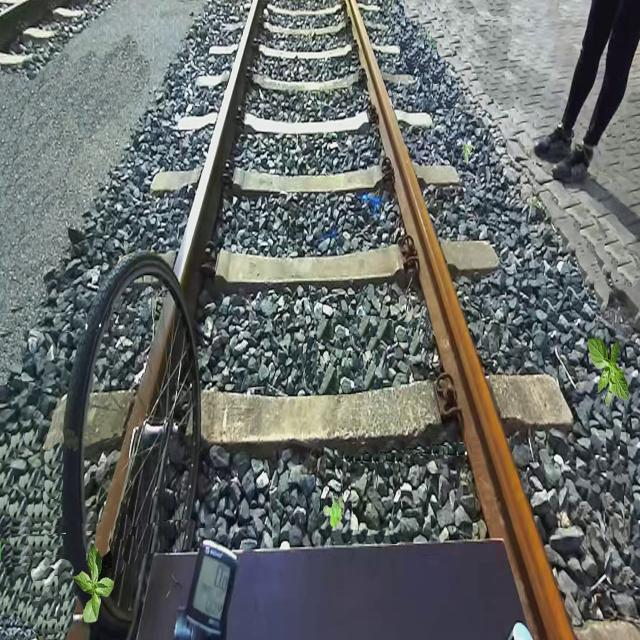Plant: (73, 543, 115, 623), (588, 336, 630, 407), (323, 496, 344, 529), (462, 144, 476, 164)
